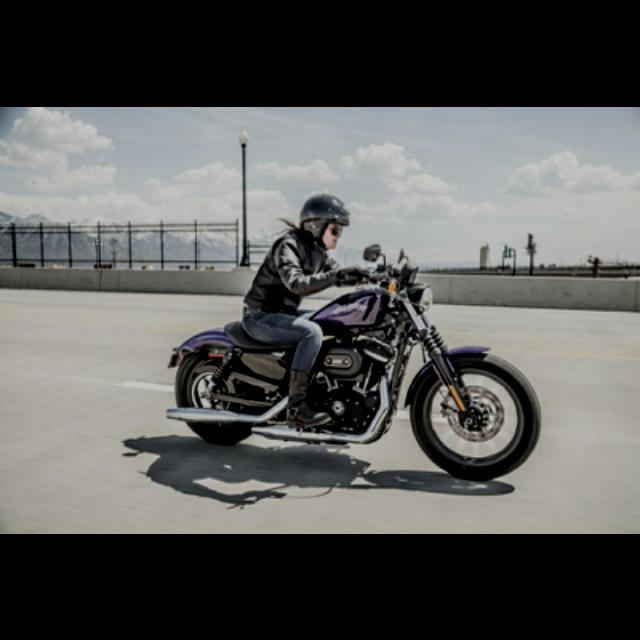With Helmet: (298, 186, 354, 254)
